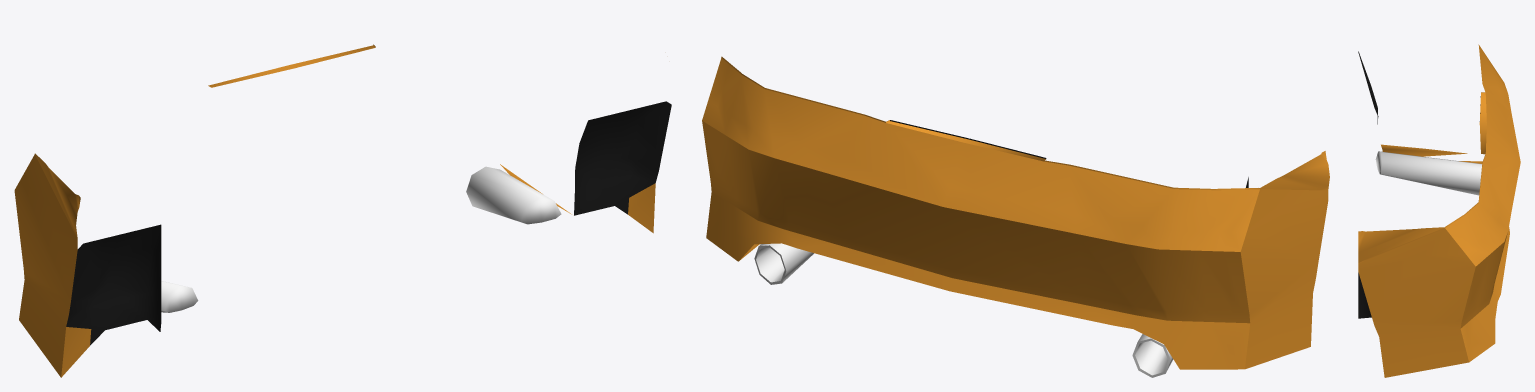
Rendered from protoCompact_rearBumper_hayate.glb.
3 views of the same model, side by side, from view 1: azimuth 30°, elevation 25°; view 2: azimuth 150°, elevation 25°; view 3: azimuth 270°, elevation 25° (orthographic). The views are drawn at different scales.
Parts seen in each view (by area): view 1: rearBumper_hayate; view 2: rearBumper_hayate; view 3: rearBumper_hayate.
Boxes of the visible parts, x1=… form: rearBumper_hayate: x1=14, y1=44, x2=671, y2=377; rearBumper_hayate: x1=702, y1=56, x2=1329, y2=377; rearBumper_hayate: x1=1358, y1=44, x2=1520, y2=377.
Size of the model in its own units: 1.55 by 0.4903 by 0.4839.
